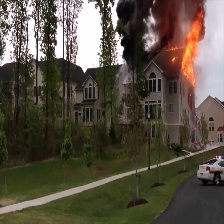fire: (166, 4, 207, 85)
